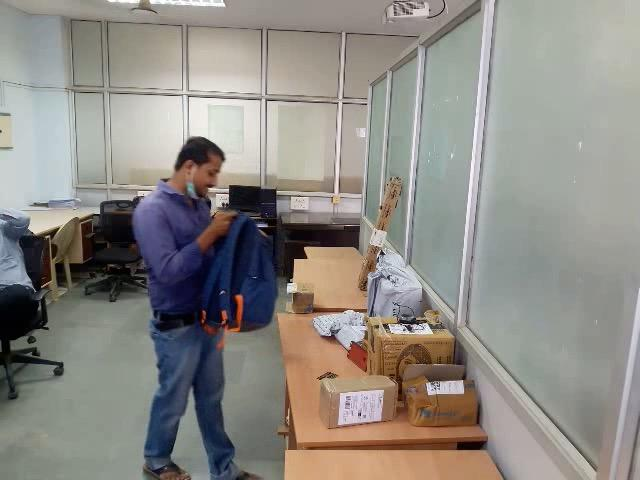shoplifting: (96, 199, 395, 371)
